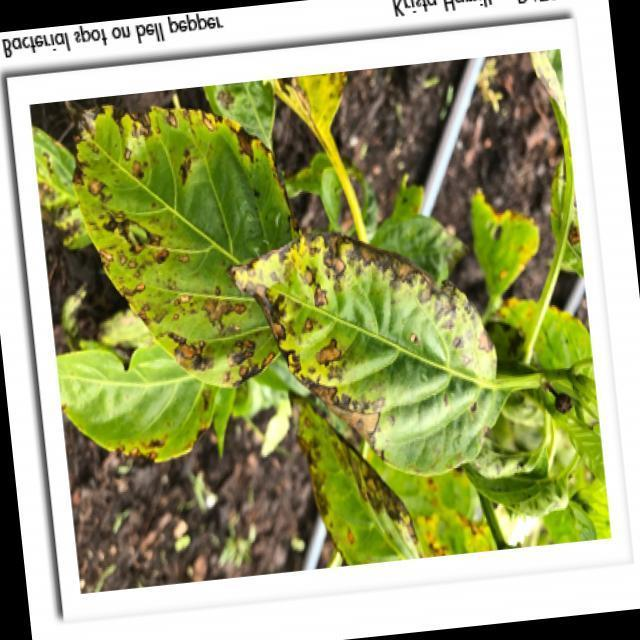Bacterial Spot: (225, 220, 505, 468), (74, 96, 284, 386)
